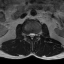CCS_normal: (30, 31, 33, 41)
LFS_normal: (35, 32, 37, 37)
LLS_normal: (33, 31, 35, 38)
RFS_stenosis: (26, 32, 28, 37)
RLS_normal: (28, 31, 30, 38)
